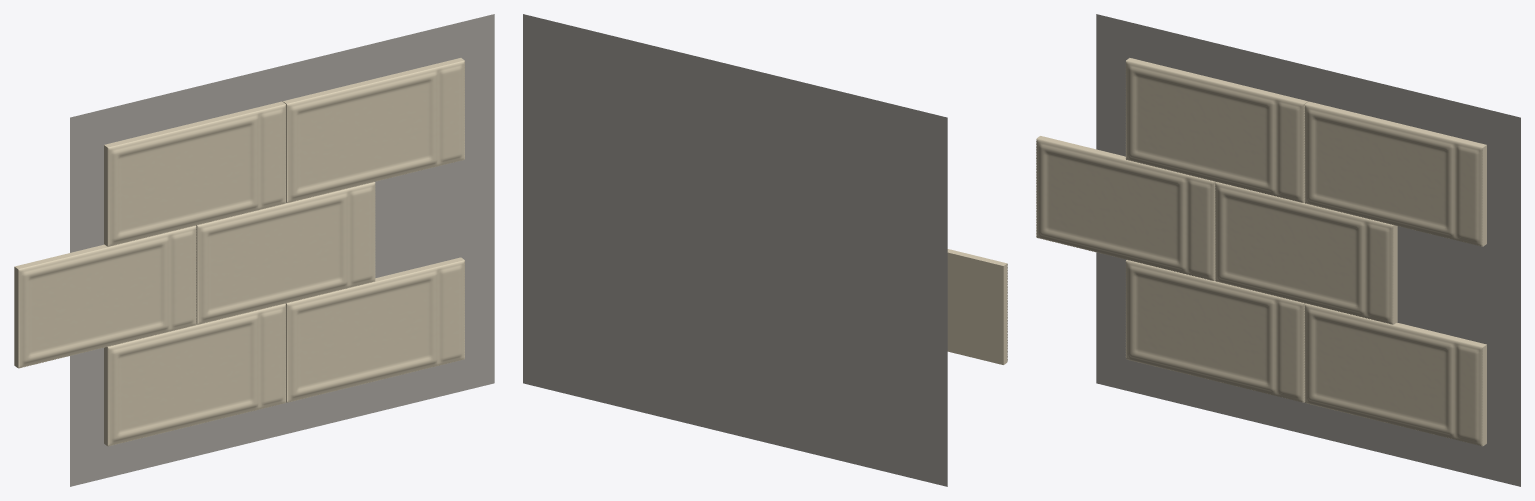
File: terilgan.glb
3 renders of one model, left to right at view 1: azimuth 30°, elevation 25°; view 2: azimuth 150°, elevation 25°; view 3: azimuth 330°, elevation 25°, orthographic.
Visible parts, largest first — view 1: Plane, t2_0, t1_0, t2_1, t0_0, t0_1, t1_1; view 2: Plane, t1_0; view 3: Plane, t2_1, t0_1, t2_0, t1_1, t1_0, t0_0.
Part boxes in pixels (x1=…): Plane: x1=70, y1=14, x2=494, y2=486; t2_0: x1=104, y1=101, x2=285, y2=246; t1_0: x1=14, y1=225, x2=196, y2=368; t2_1: x1=282, y1=58, x2=464, y2=202; t0_0: x1=104, y1=303, x2=285, y2=446; t0_1: x1=285, y1=257, x2=464, y2=402; t1_1: x1=196, y1=182, x2=375, y2=324; Plane: x1=523, y1=14, x2=947, y2=486; t1_0: x1=947, y1=249, x2=1007, y2=364; Plane: x1=1096, y1=14, x2=1520, y2=486; t2_1: x1=1304, y1=101, x2=1486, y2=246; t0_1: x1=1304, y1=303, x2=1486, y2=446; t2_0: x1=1125, y1=58, x2=1307, y2=202; t1_1: x1=1215, y1=182, x2=1397, y2=324; t1_0: x1=1036, y1=136, x2=1215, y2=280; t0_0: x1=1125, y1=260, x2=1305, y2=402.
Size of the model in its own units: 2.16 by 1.58 by 0.0419.
